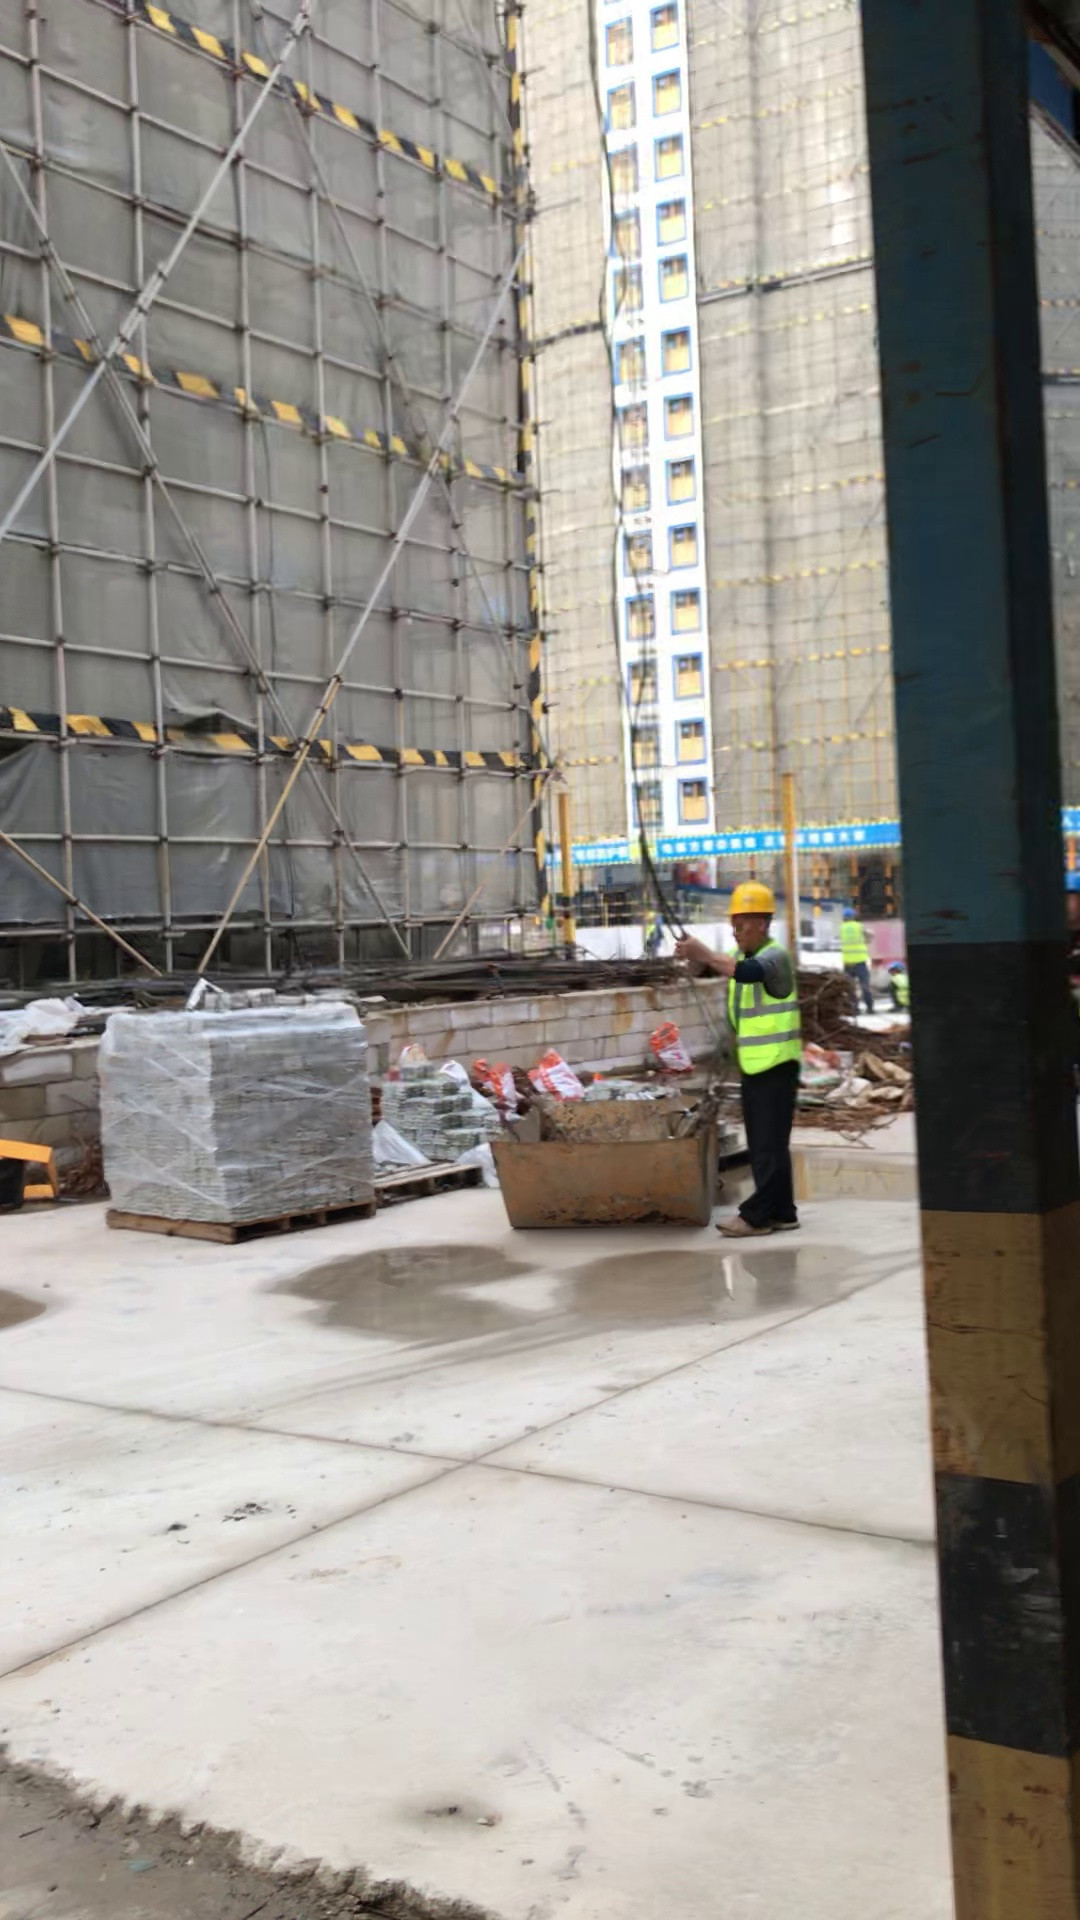helmet: (724, 880, 779, 918), (843, 905, 860, 916), (890, 960, 907, 970)
hopper: (491, 1074, 714, 1249)
person: (675, 878, 810, 1255), (835, 904, 876, 1017), (884, 958, 914, 1016)
vest: (724, 945, 805, 1075), (843, 921, 868, 970), (893, 976, 912, 1004)
